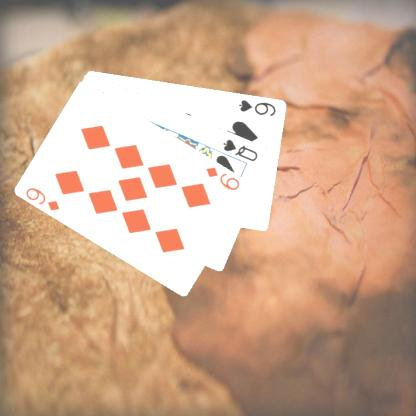6S: (236, 96, 278, 118)
9D: (203, 164, 242, 192), (23, 185, 61, 212)
QS: (220, 136, 260, 163)
